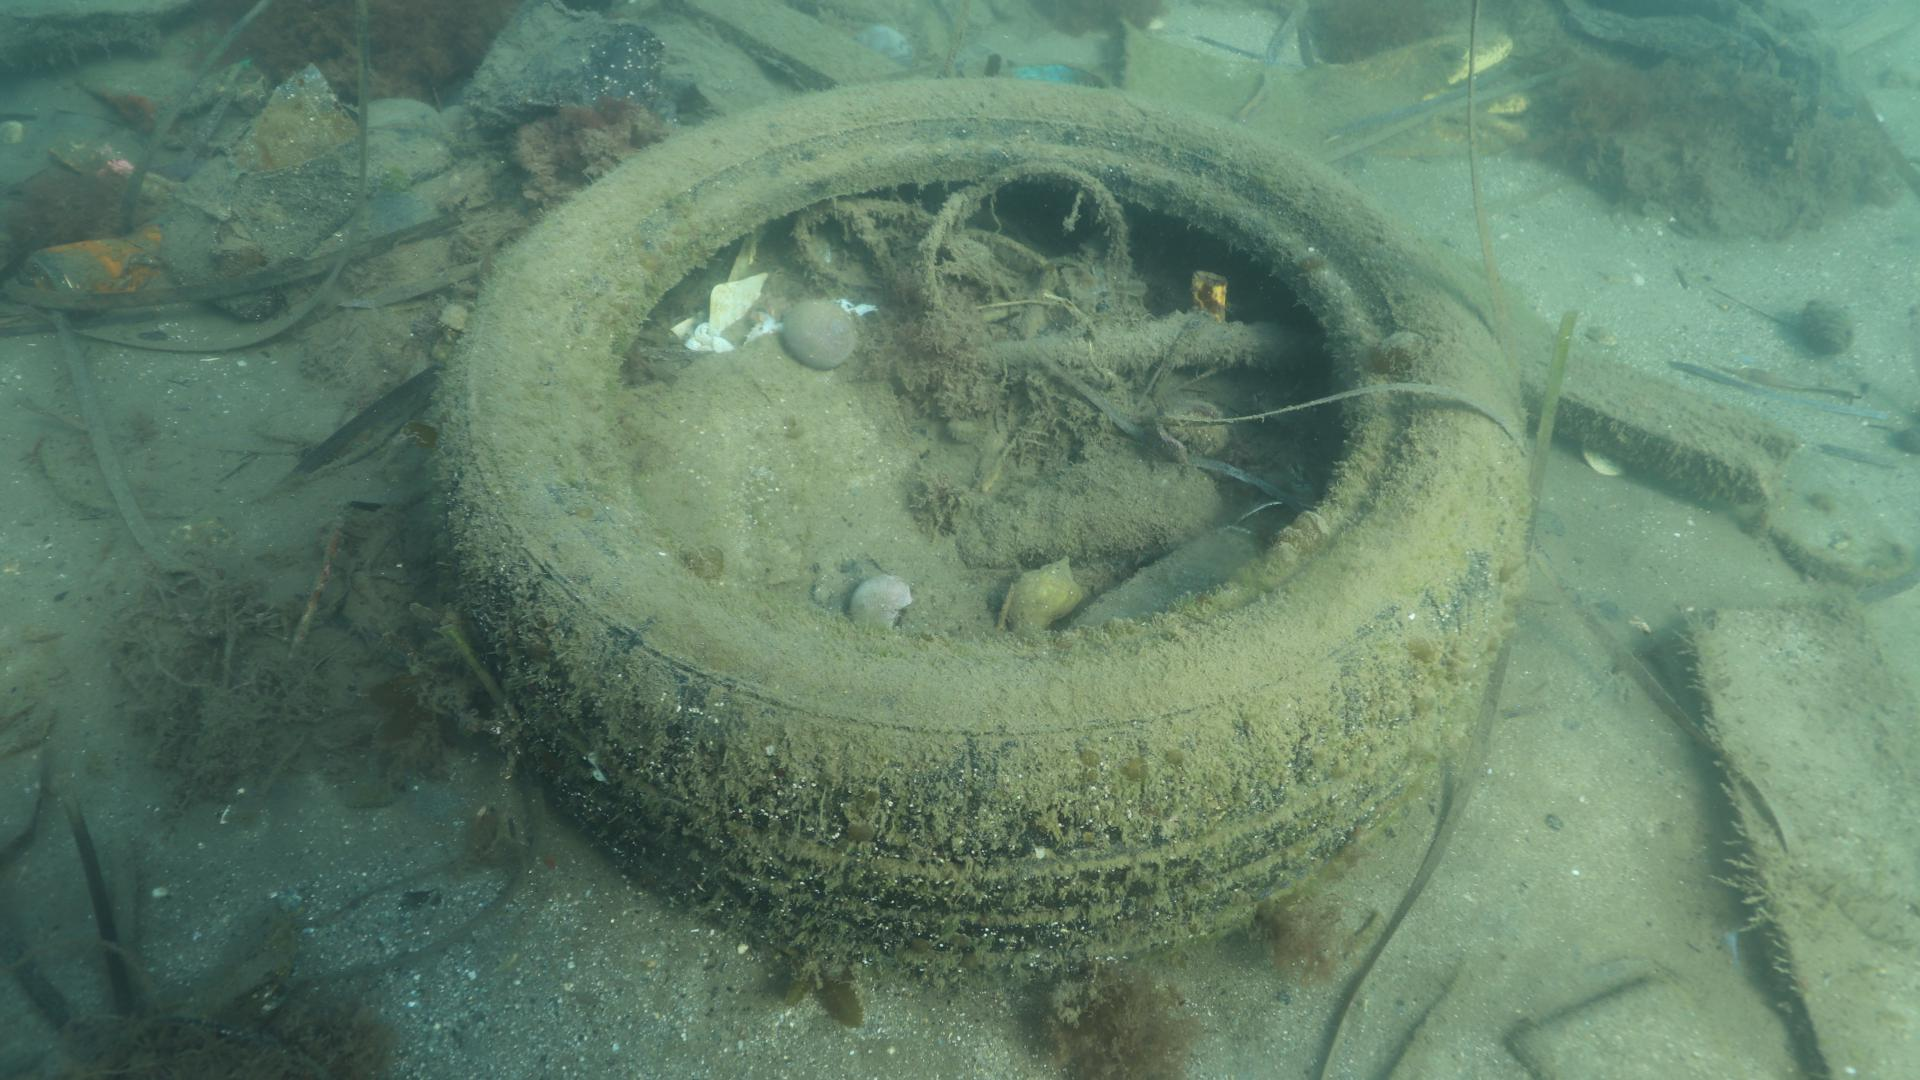tire: (423, 73, 1542, 992)
